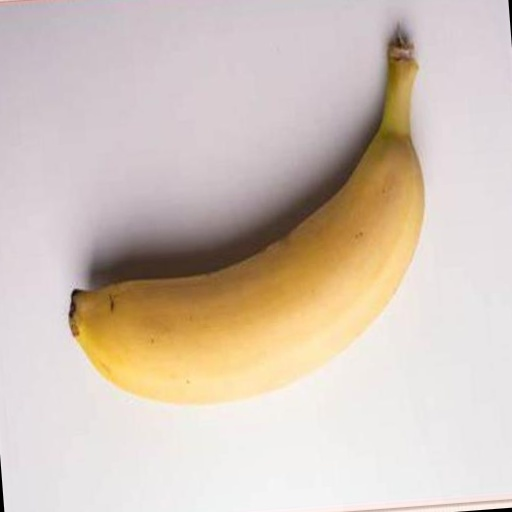fruit: (70, 35, 424, 403)
